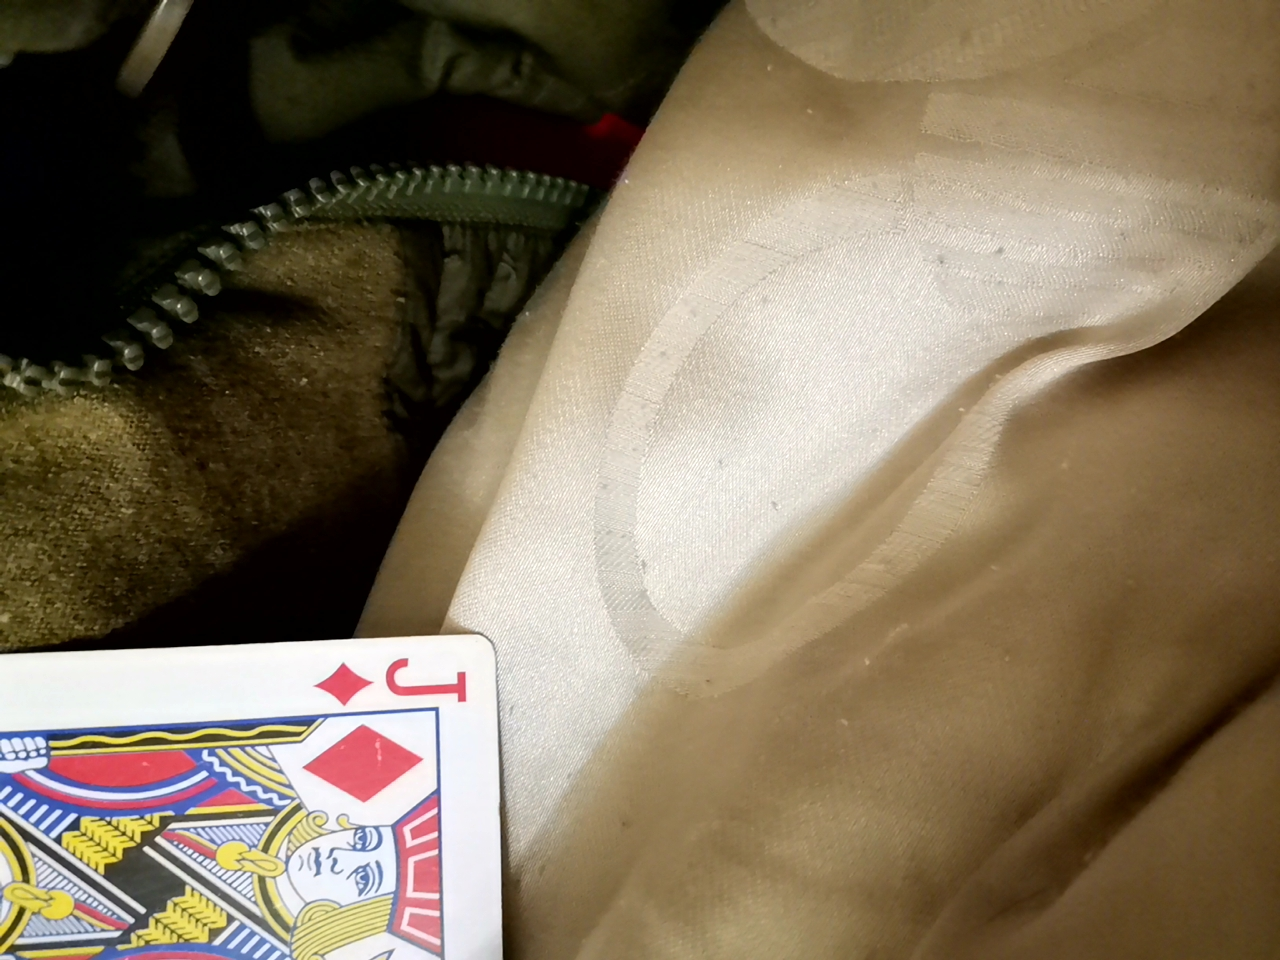fk j: (0, 630, 519, 960)
